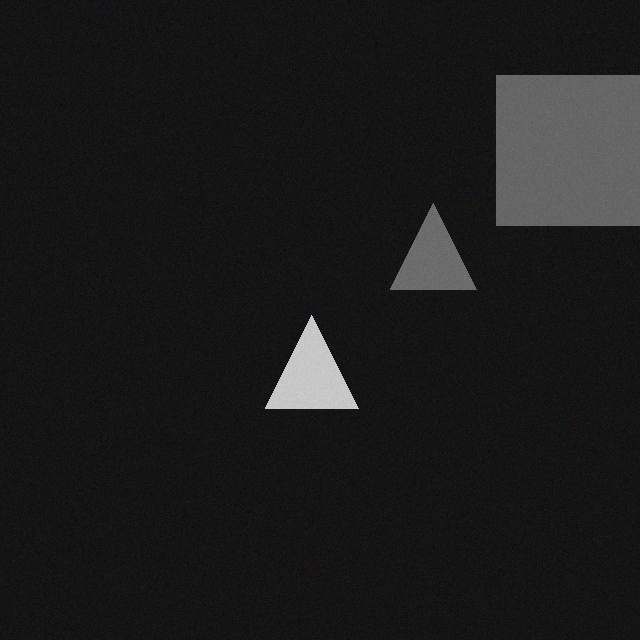square: (490, 61, 640, 211)
triangle: (259, 301, 352, 394), (384, 189, 470, 275)
